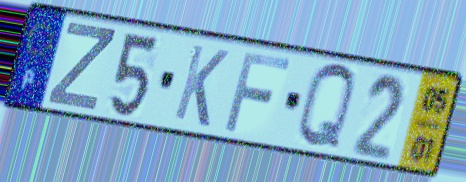2: (348, 71, 409, 164)
5: (105, 29, 164, 119)
F: (221, 50, 294, 136)
K: (170, 40, 232, 130)
Q: (295, 60, 358, 153)
Z: (44, 19, 119, 114)
